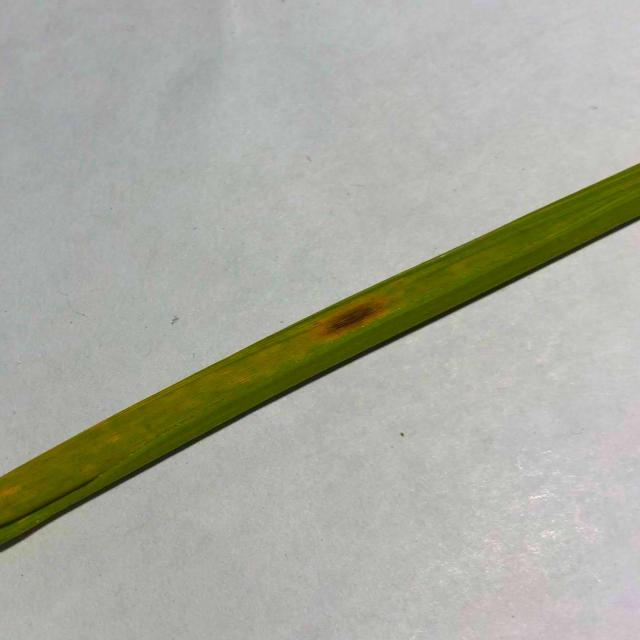Brown spot: (0, 138, 640, 603)
